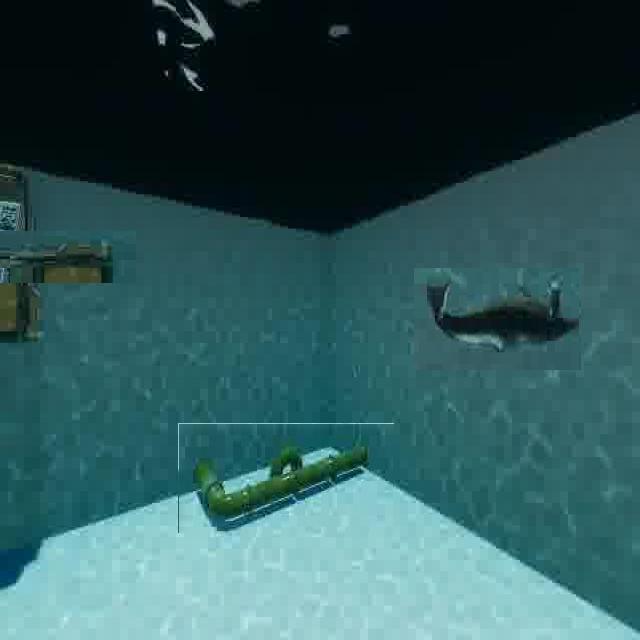Control Panel: (0, 188, 94, 324)
Pipe: (178, 423, 394, 533)
Whale: (414, 268, 581, 370)
